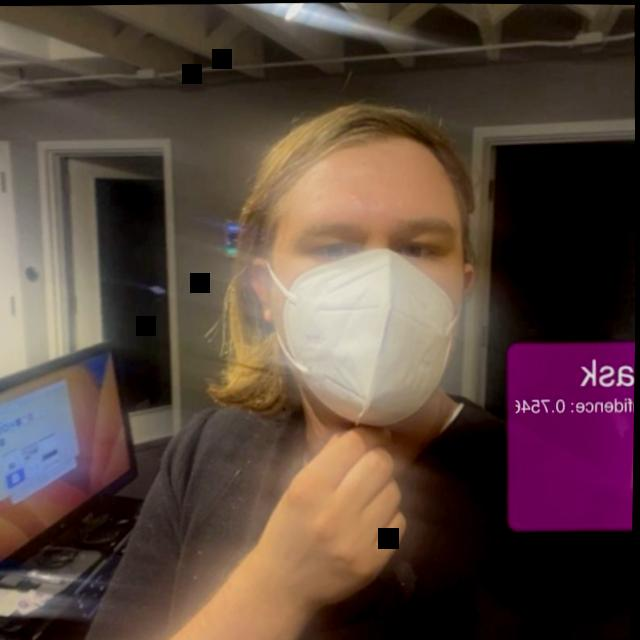Mask: (233, 92, 497, 449)
